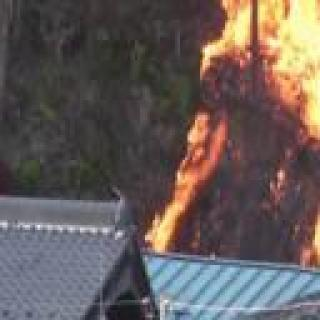fire: (160, 0, 320, 264)
